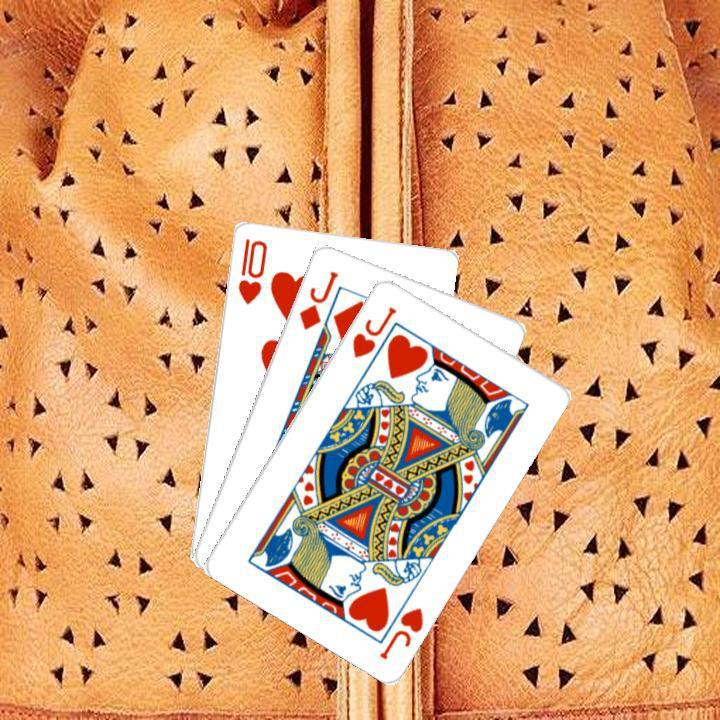10: (233, 234, 269, 306)
J: (347, 301, 399, 360), (375, 602, 426, 661), (294, 266, 340, 331)
